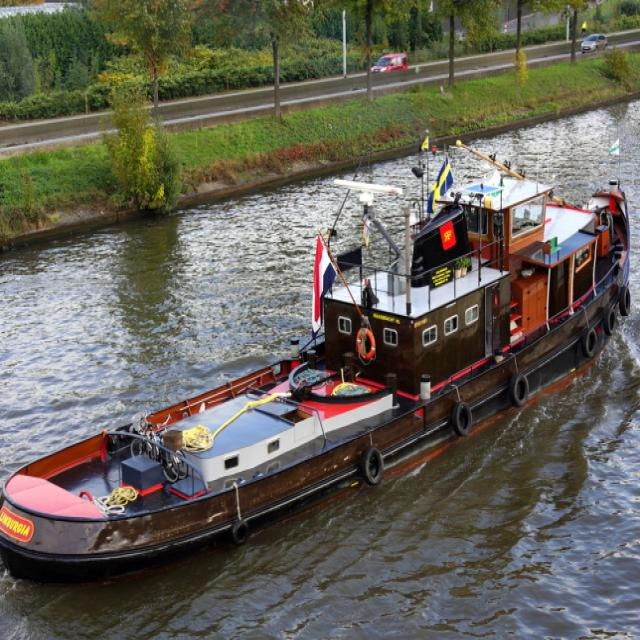tugboat: (1, 135, 639, 596)
